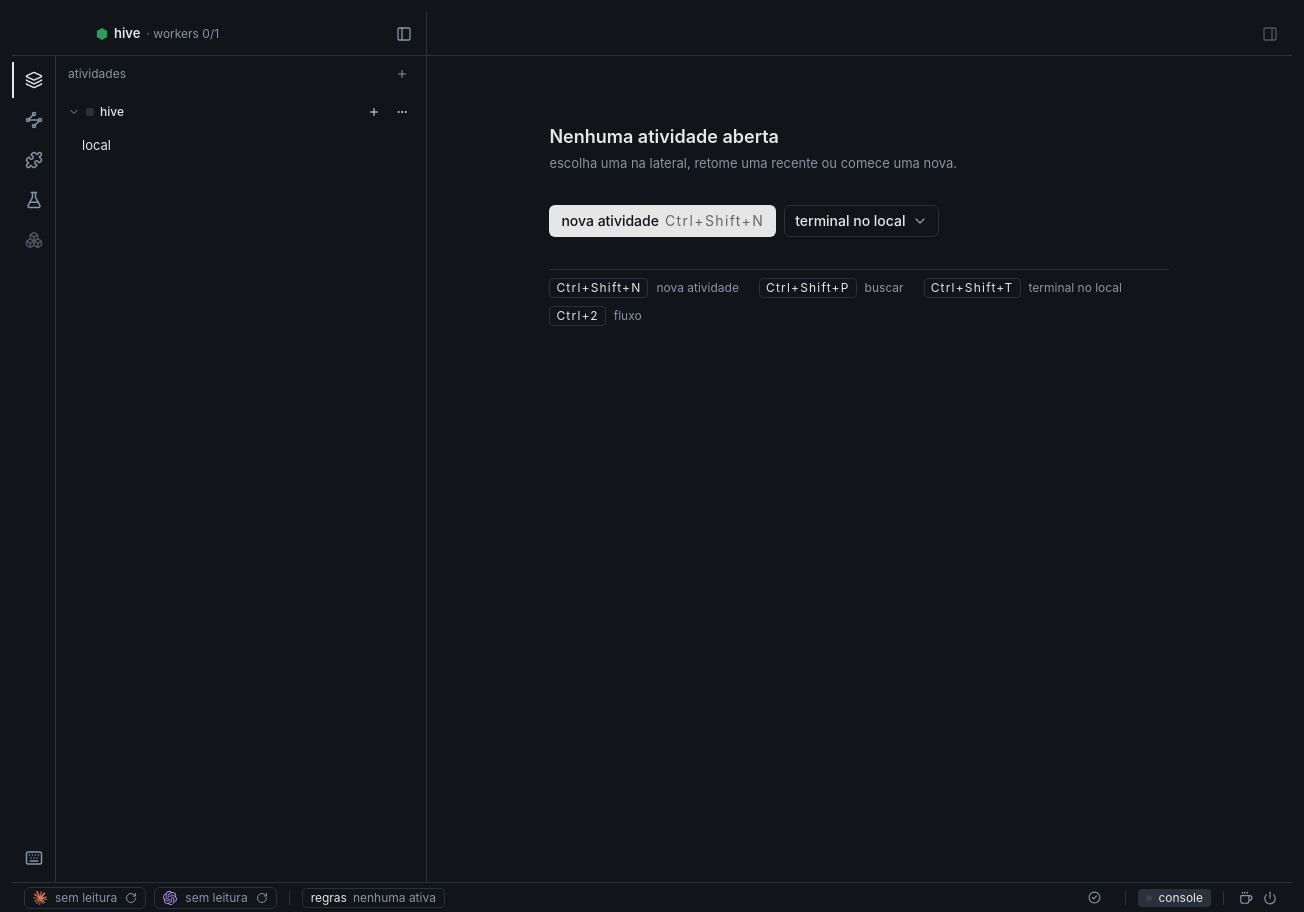
a native view row opens the issue page under the source header when the Hive lists its repository, else GitHub; the active tab returns to the table (#757)
Click the button named "fluxo".
click(34, 120)  # box [12,102,56,138]
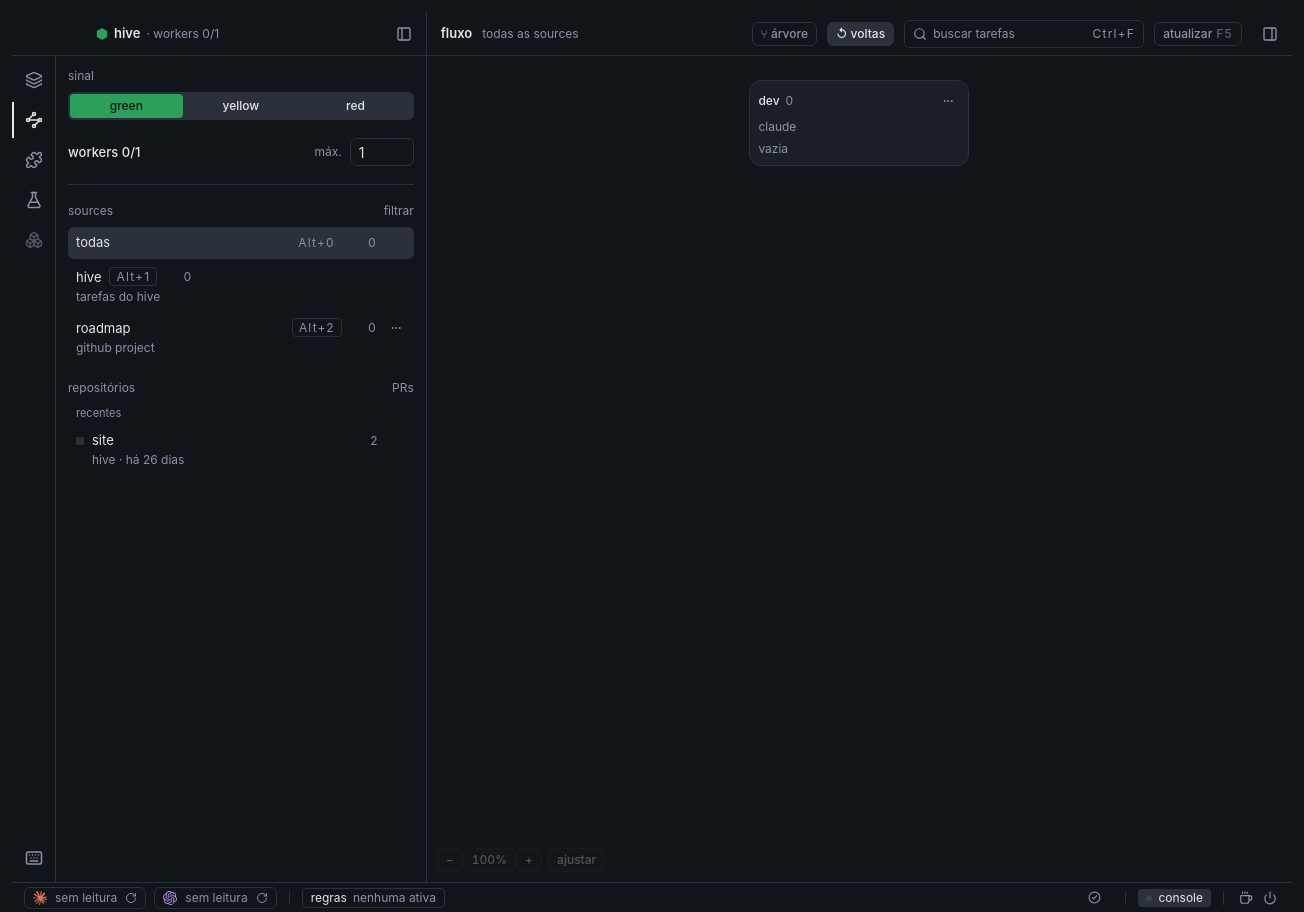
Check: the button "site 2 hive · há 26 dias" is shown, box [68,425,414,474]
Click the button "roadmap Alt+2 0 github project".
click(103, 328)  # box [68,313,414,362]
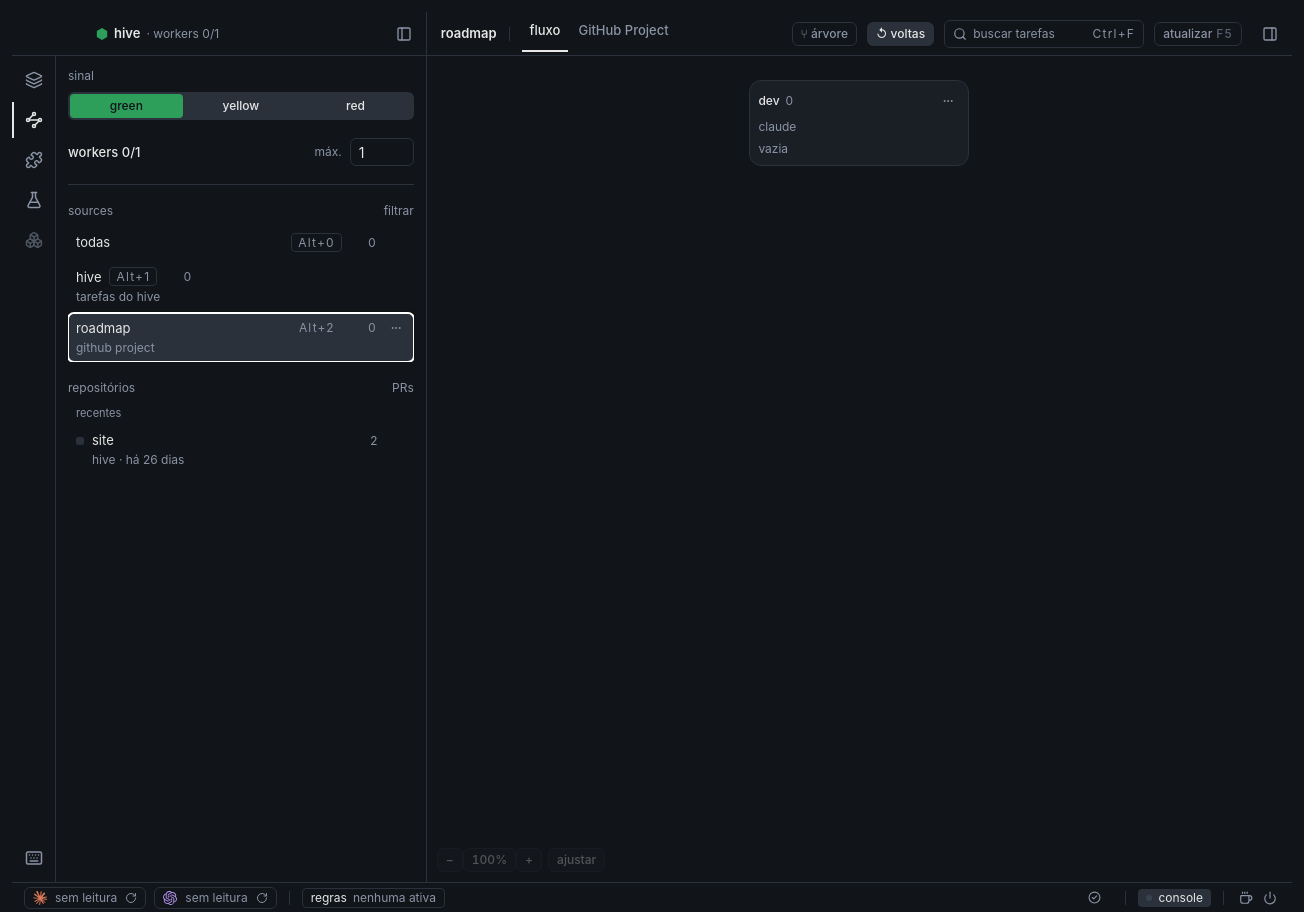
Click the tab "GitHub Project".
click(624, 32)  # box [570,12,677,52]
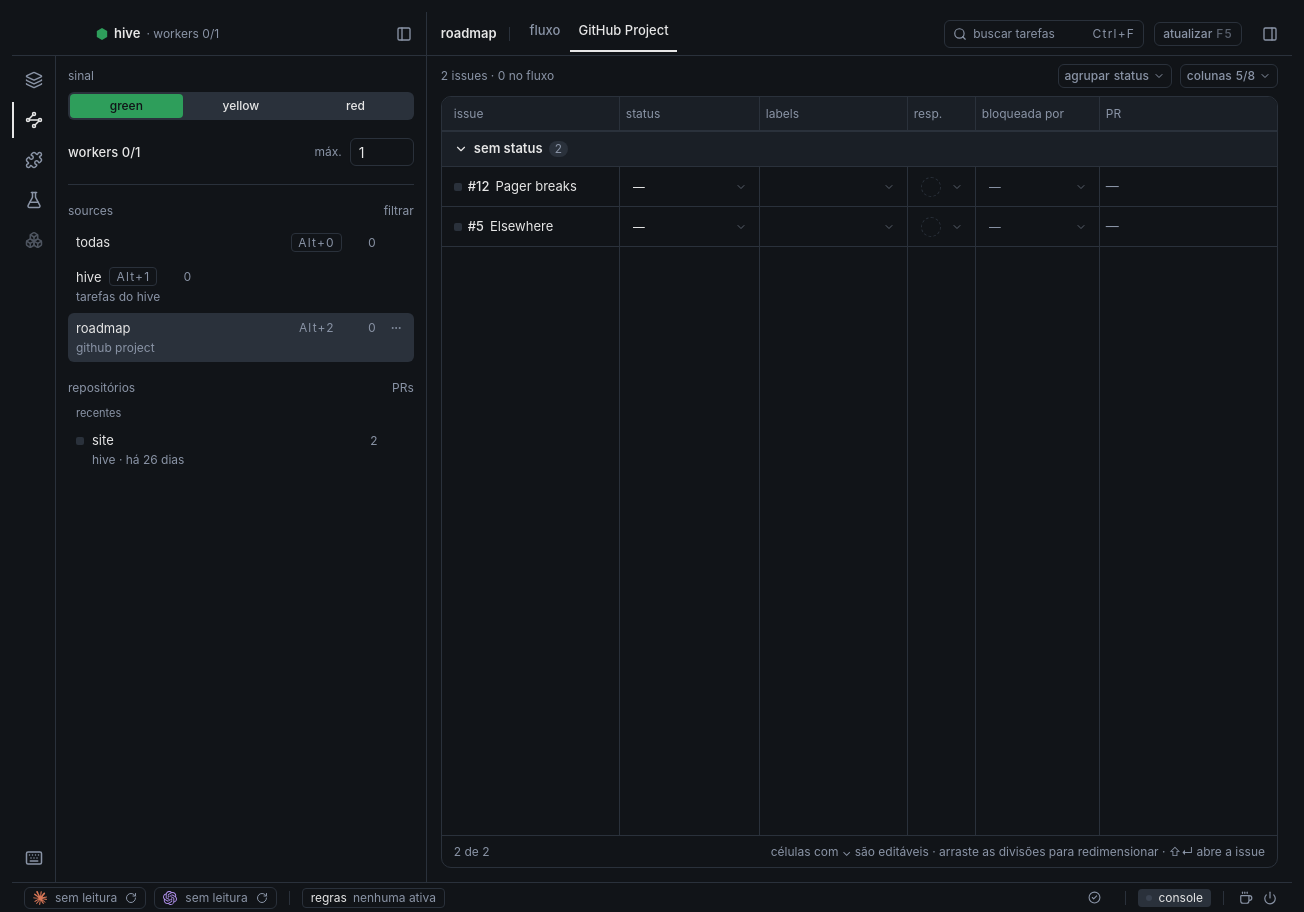
Click the text "Elsewhere".
click(522, 226)  # box [490,217,553,236]
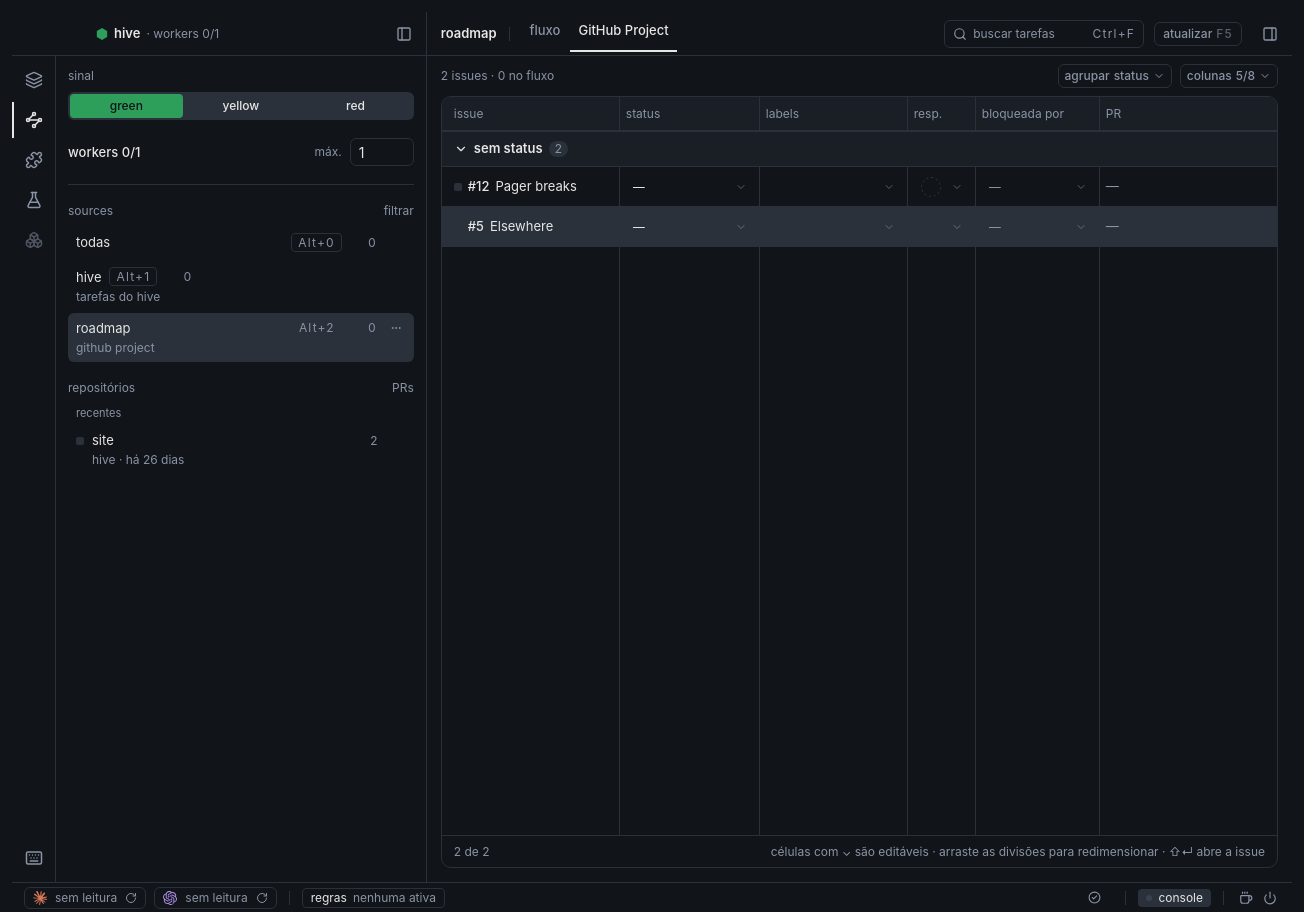
Click the text "Pager breaks".
click(536, 186)  # box [496,177,577,196]
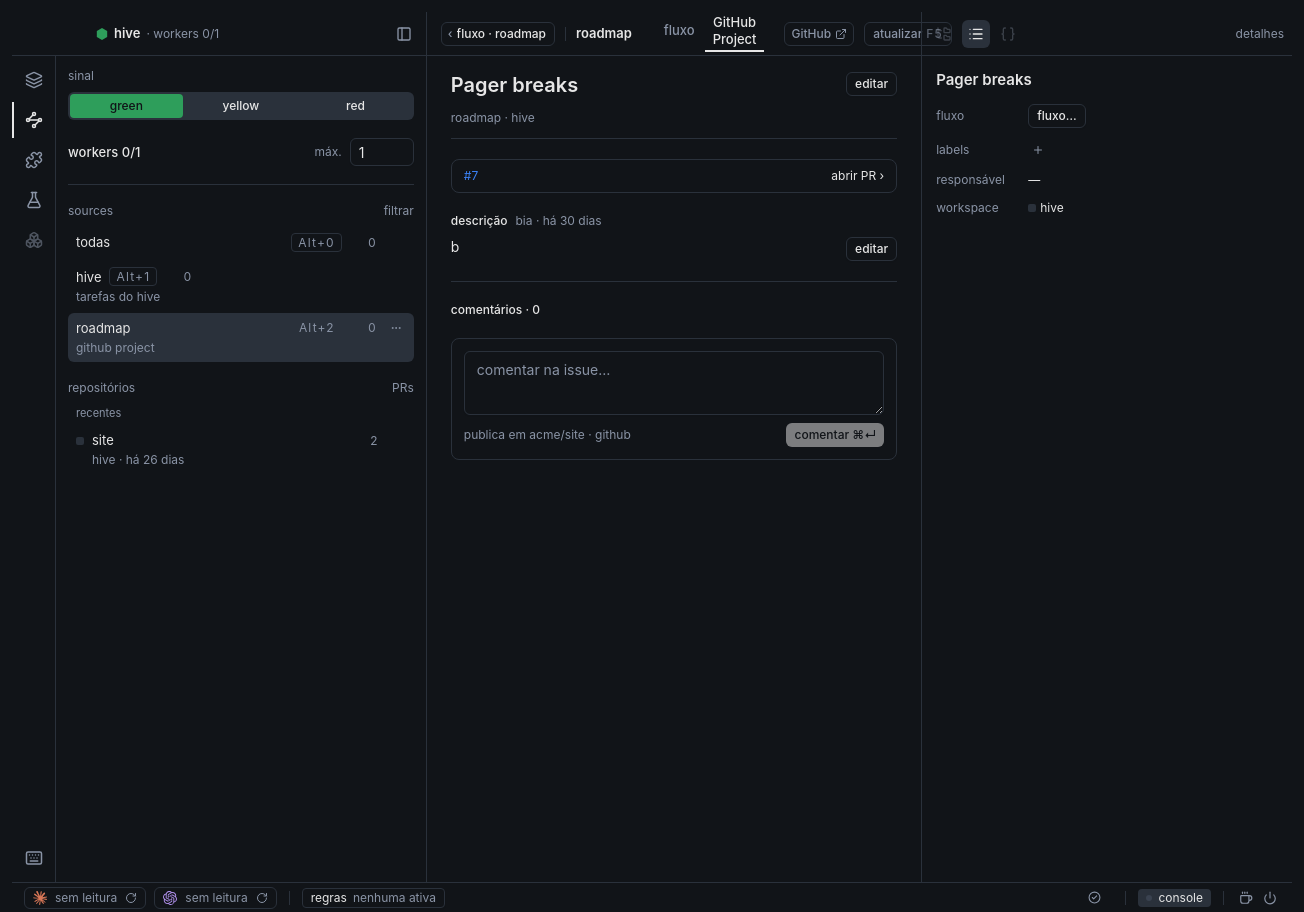
Check: the 1st heading "Pager breaks" is shown, box [451,73,578,97]
Check: the text "roadmap · hive" is shown, box [451,110,897,139]
Click the tab "GitHub Project".
click(735, 32)  # box [705,12,764,52]
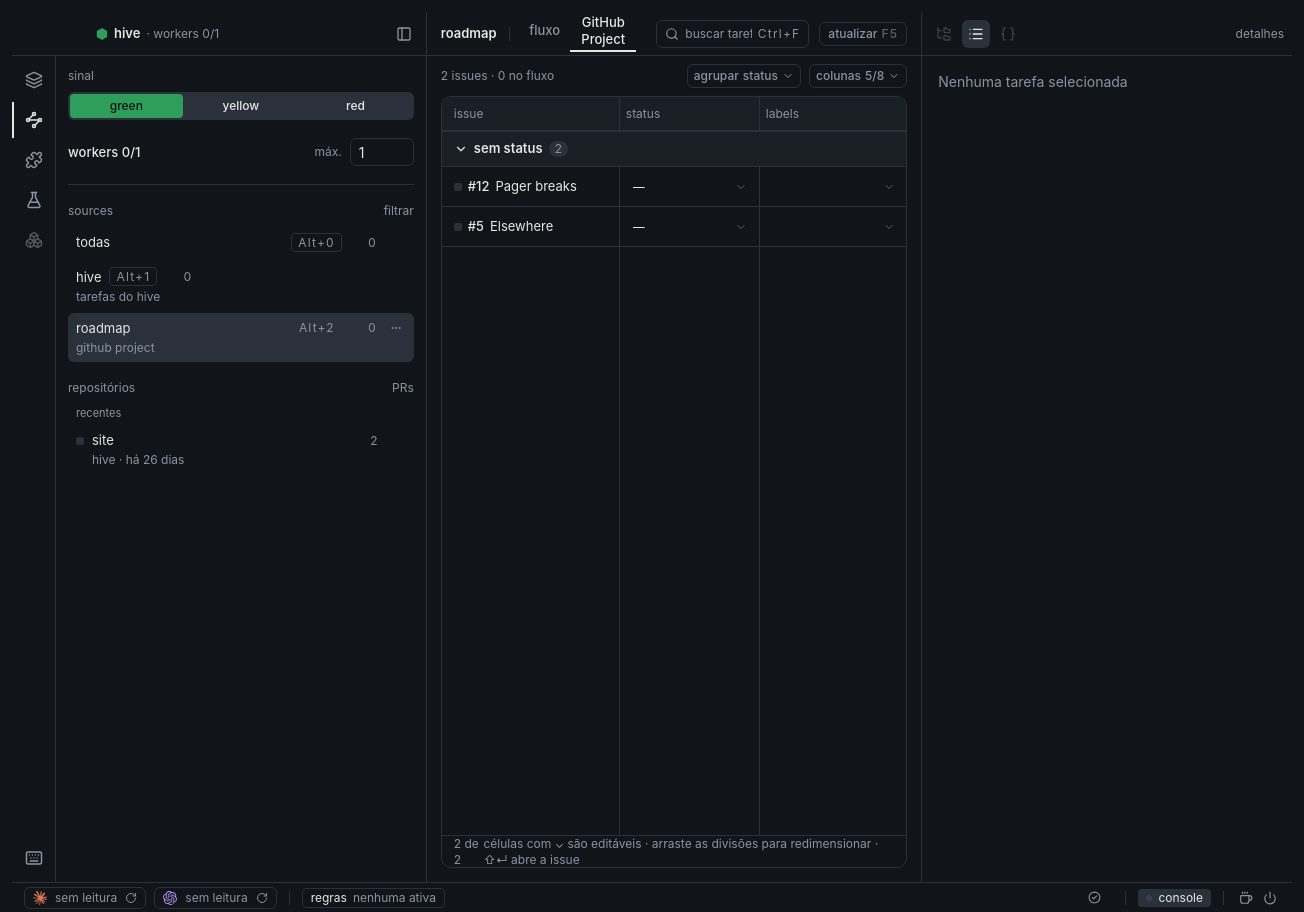
Check: the text "2 issues · 0 no fluxo" is shown, box [441,68,554,83]
